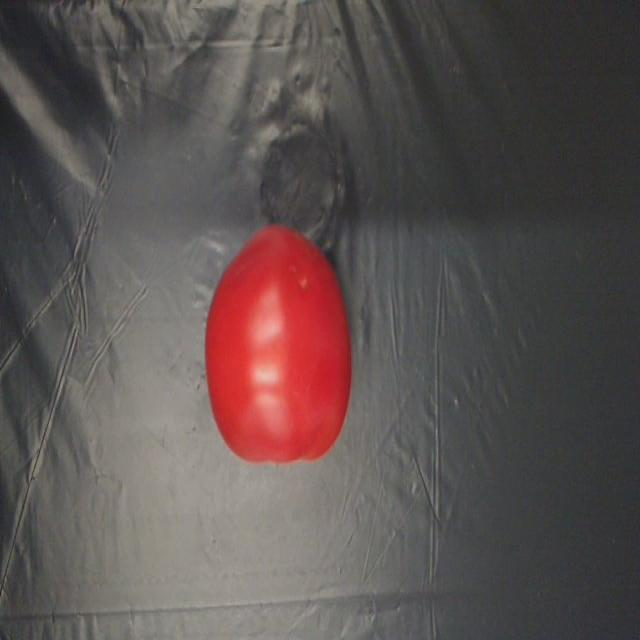kirmizi: (207, 227, 357, 472)
